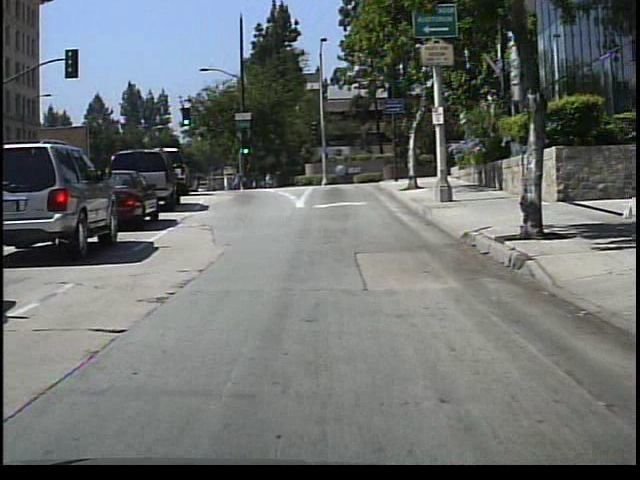person: (230, 167, 245, 192), (261, 166, 276, 191)
